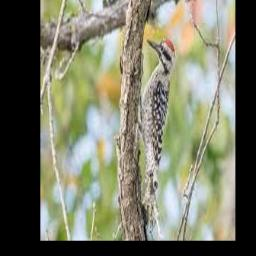Woodpecker: (139, 38, 175, 241)
